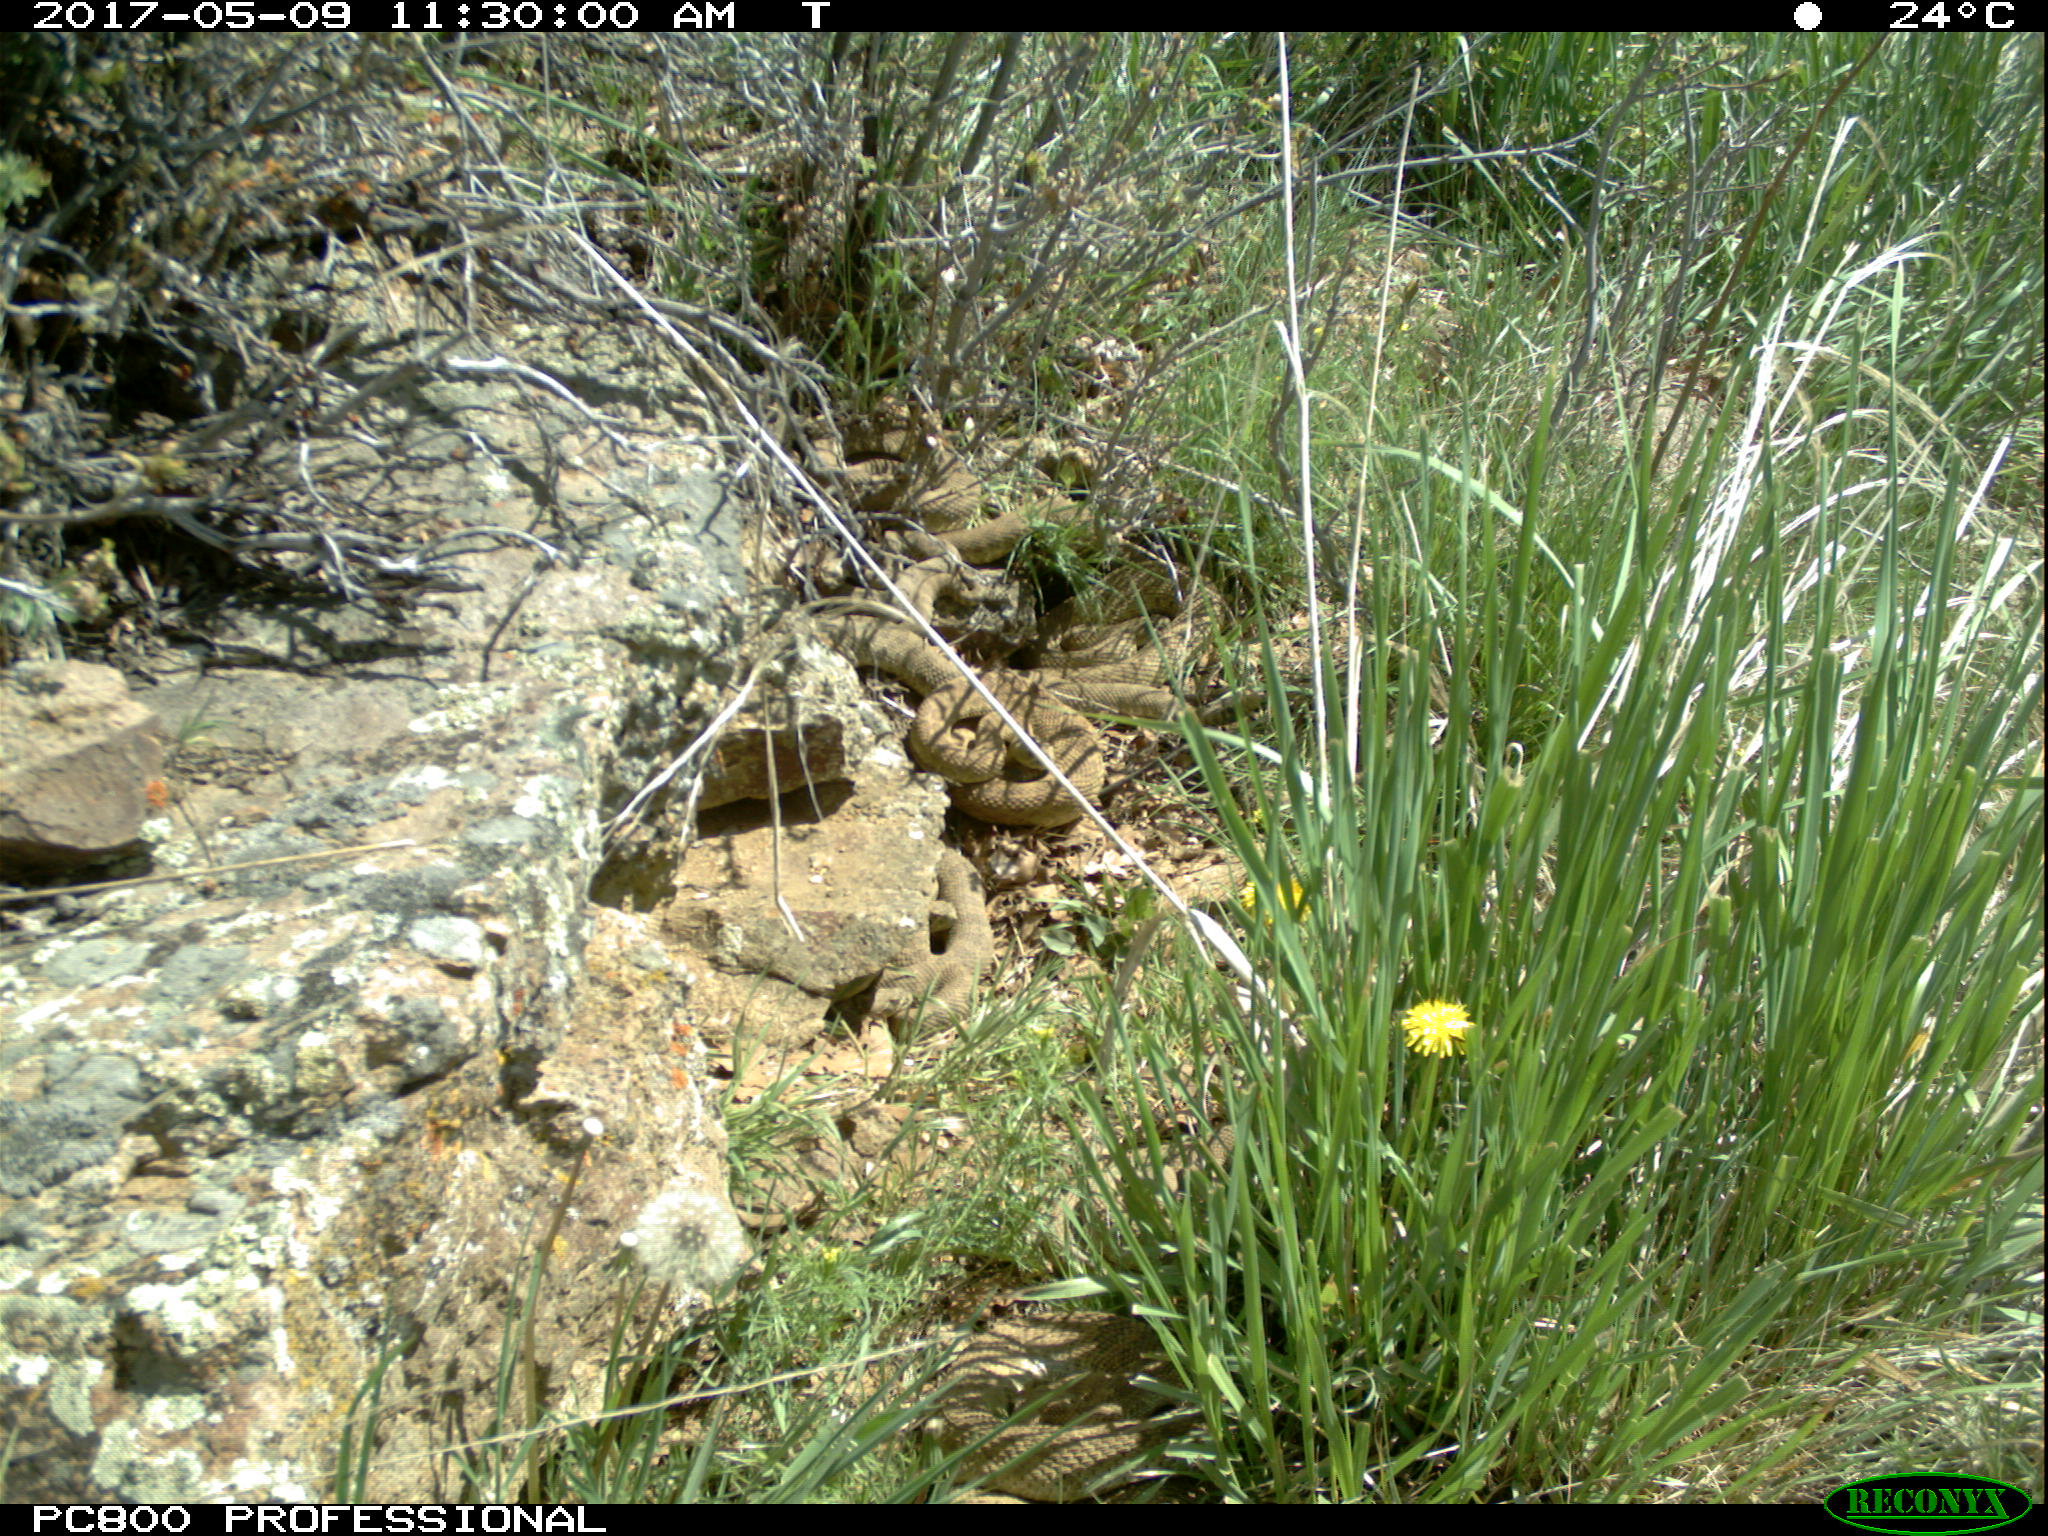snake: (942, 1304, 1171, 1499), (908, 662, 1121, 823), (864, 845, 1013, 1034), (903, 466, 1126, 570), (1092, 570, 1226, 678), (830, 611, 985, 699)
